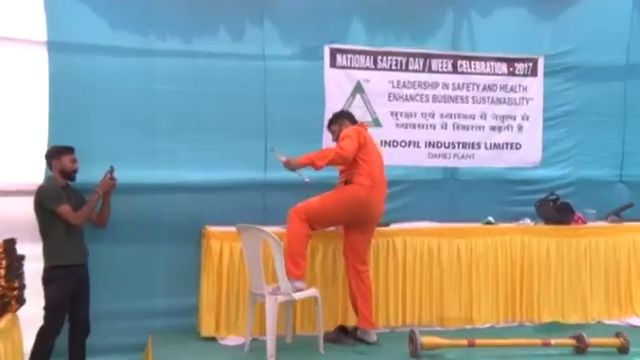helmet_off: (44, 145, 79, 185), (328, 110, 359, 145)
person: (277, 110, 385, 344), (29, 145, 119, 360)
